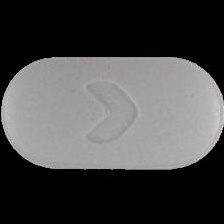63187-731: (0, 0, 224, 224)
